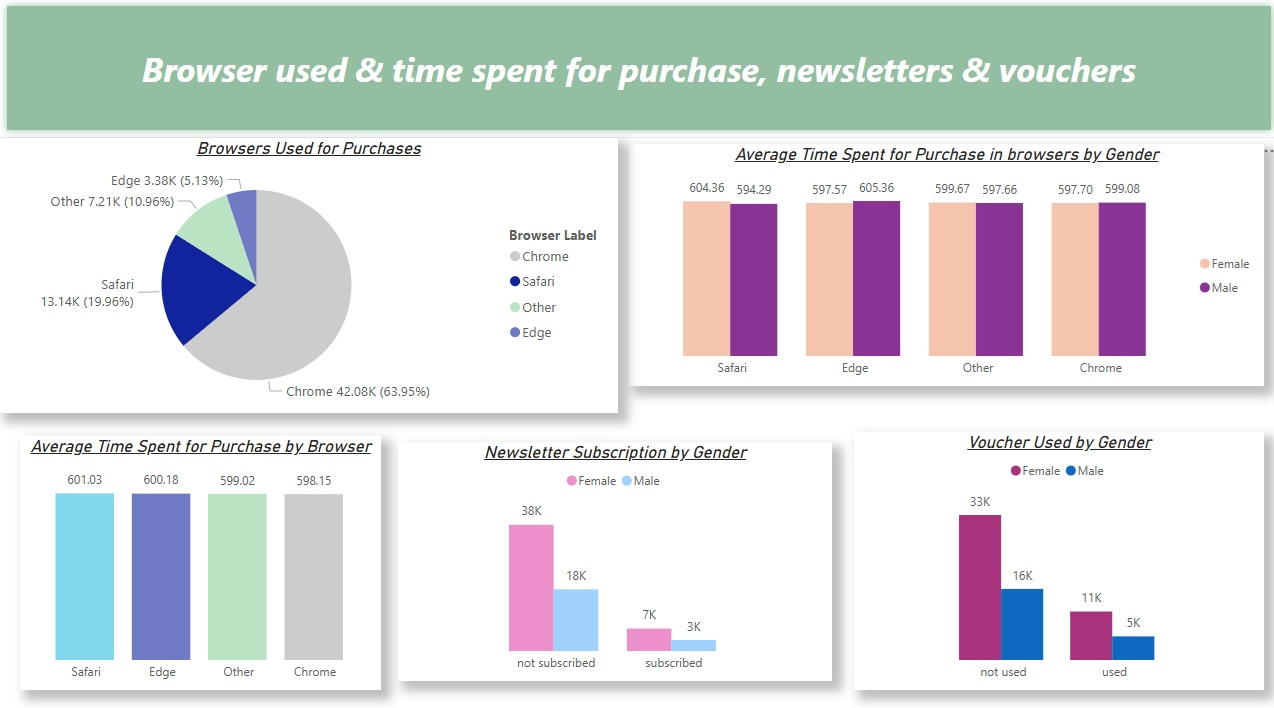

The dashboard page shown, as its layout file describes it:
{"tool":"powerbi","page":{"name":"Browser & time spent for purchase, newsletters & vouchers ","canvas":[1280,720],"ordinal":3},"visuals":[{"type":"shape","title":"Customers'' info","box":[0,0,1279.7,139.7],"z":0},{"type":"clusteredColumnChart","title":"Average Time Spent for Purchase by Browser ","fields":{"Y":["Avg(Online Shop Customer Sales Data.Time_Spent)"],"Category":["Online Shop Customer Sales Data.Browser Label"]},"box":[21.2,437.6,360.6,254.8],"z":1000},{"type":"clusteredColumnChart","title":"Average Time Spent for Purchase in browsers by Gender","fields":{"Y":["Avg(Online Shop Customer Sales Data.Time_Spent)"],"Category":["Online Shop Customer Sales Data.Browser Label"],"Series":["Online Shop Customer Sales Data.Gender Label"]},"box":[630,146,635,242],"z":2000},{"type":"pieChart","title":"Browsers Used for Purchases","fields":{"Category":["Online Shop Customer Sales Data.Browser Label"],"Y":["CountNonNull(Online Shop Customer Sales Data.Browser)"]},"box":[0,140,619,275],"z":3000},{"type":"clusteredColumnChart","title":"Newsletter Subscription by Gender ","fields":{"Category":["Online Shop Customer Sales Data.Newsletter Label"],"Y":["CountNonNull(Online Shop Customer Sales Data.Newsletter Label)"],"Series":["Online Shop Customer Sales Data.Gender Label"]},"box":[399.1,444.3,433.7,238.5],"z":4000},{"type":"clusteredColumnChart","title":"Voucher Used by Gender ","fields":{"Category":["Online Shop Customer Sales Data.Voucher Label"],"Y":["CountNonNull(Online Shop Customer Sales Data.Voucher Label)"],"Series":["Online Shop Customer Sales Data.Gender Label"]},"box":[854.9,433.7,409.7,258.7],"z":5000}]}

Visuals, with their boxes in screenshot pixels (x1, y1, x2, y2), scaled from the page's 1280x720 canvas onto the 1274x708 screenshot:
"Customers'' info" shape: x1=0, y1=0, x2=1273, y2=137
"Average Time Spent for Purchase by Browser " clusteredColumnChart: x1=21, y1=430, x2=380, y2=681
"Average Time Spent for Purchase in browsers by Gender" clusteredColumnChart: x1=627, y1=144, x2=1259, y2=382
"Browsers Used for Purchases" pieChart: x1=0, y1=138, x2=616, y2=408
"Newsletter Subscription by Gender " clusteredColumnChart: x1=397, y1=437, x2=829, y2=671
"Voucher Used by Gender " clusteredColumnChart: x1=851, y1=426, x2=1259, y2=681
